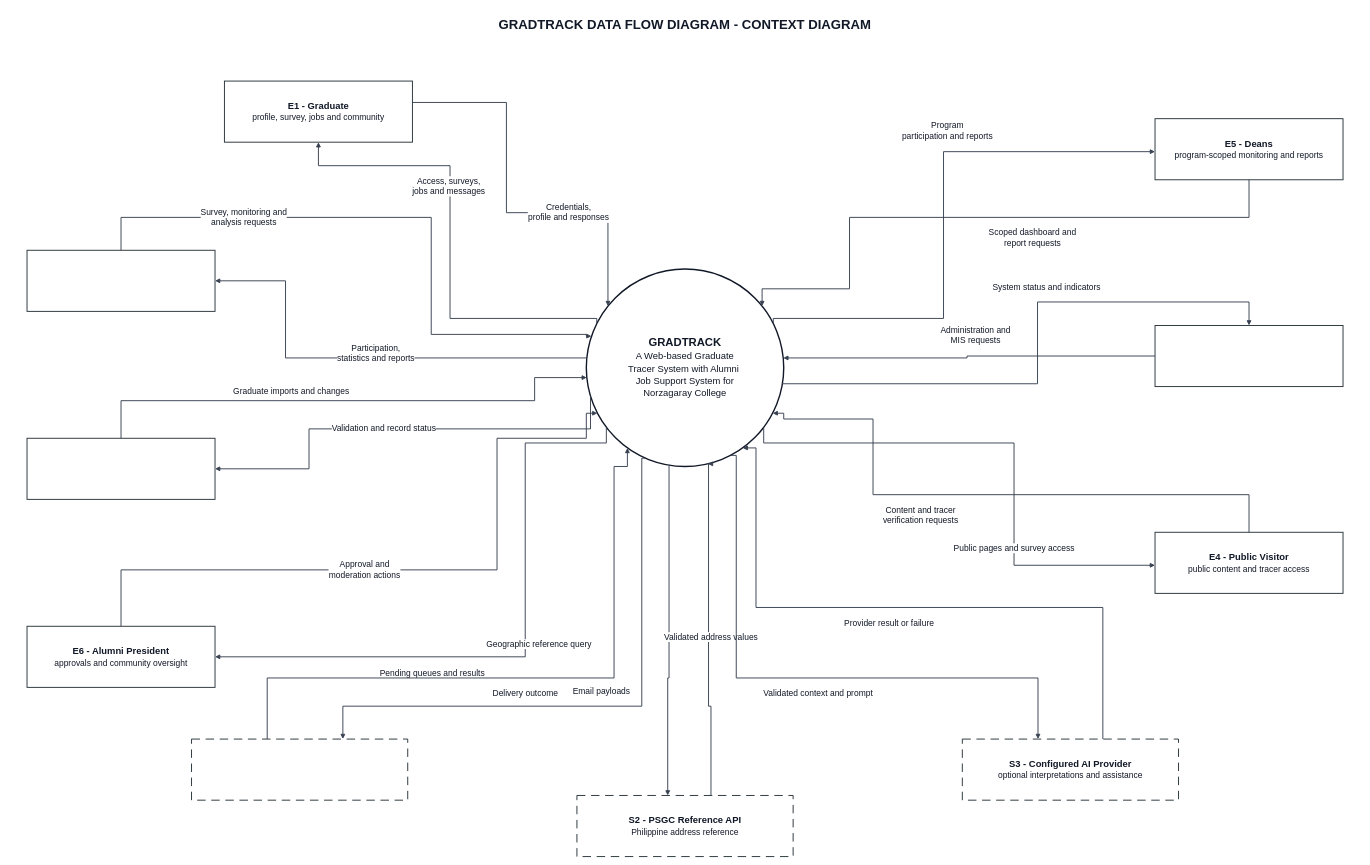
The diagram is 1370 pixels wide and 865 high, and some of its shapes have lost their labels. Each missing label, with the centre of its shape:
E2 - Research Coordinator survey, monitoring and analytics: pixel 120 281
E3 - Registrar graduate record management: pixel 120 469
E7 / E8 - Admin / MIS Staff system administration and MIS dashboard: pixel 1248 356
S1 - Email Delivery Service reset, reminder and status delivery: pixel 299 769
